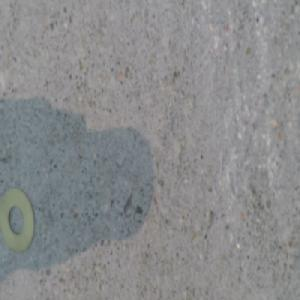Washer: (4, 186, 35, 250)
